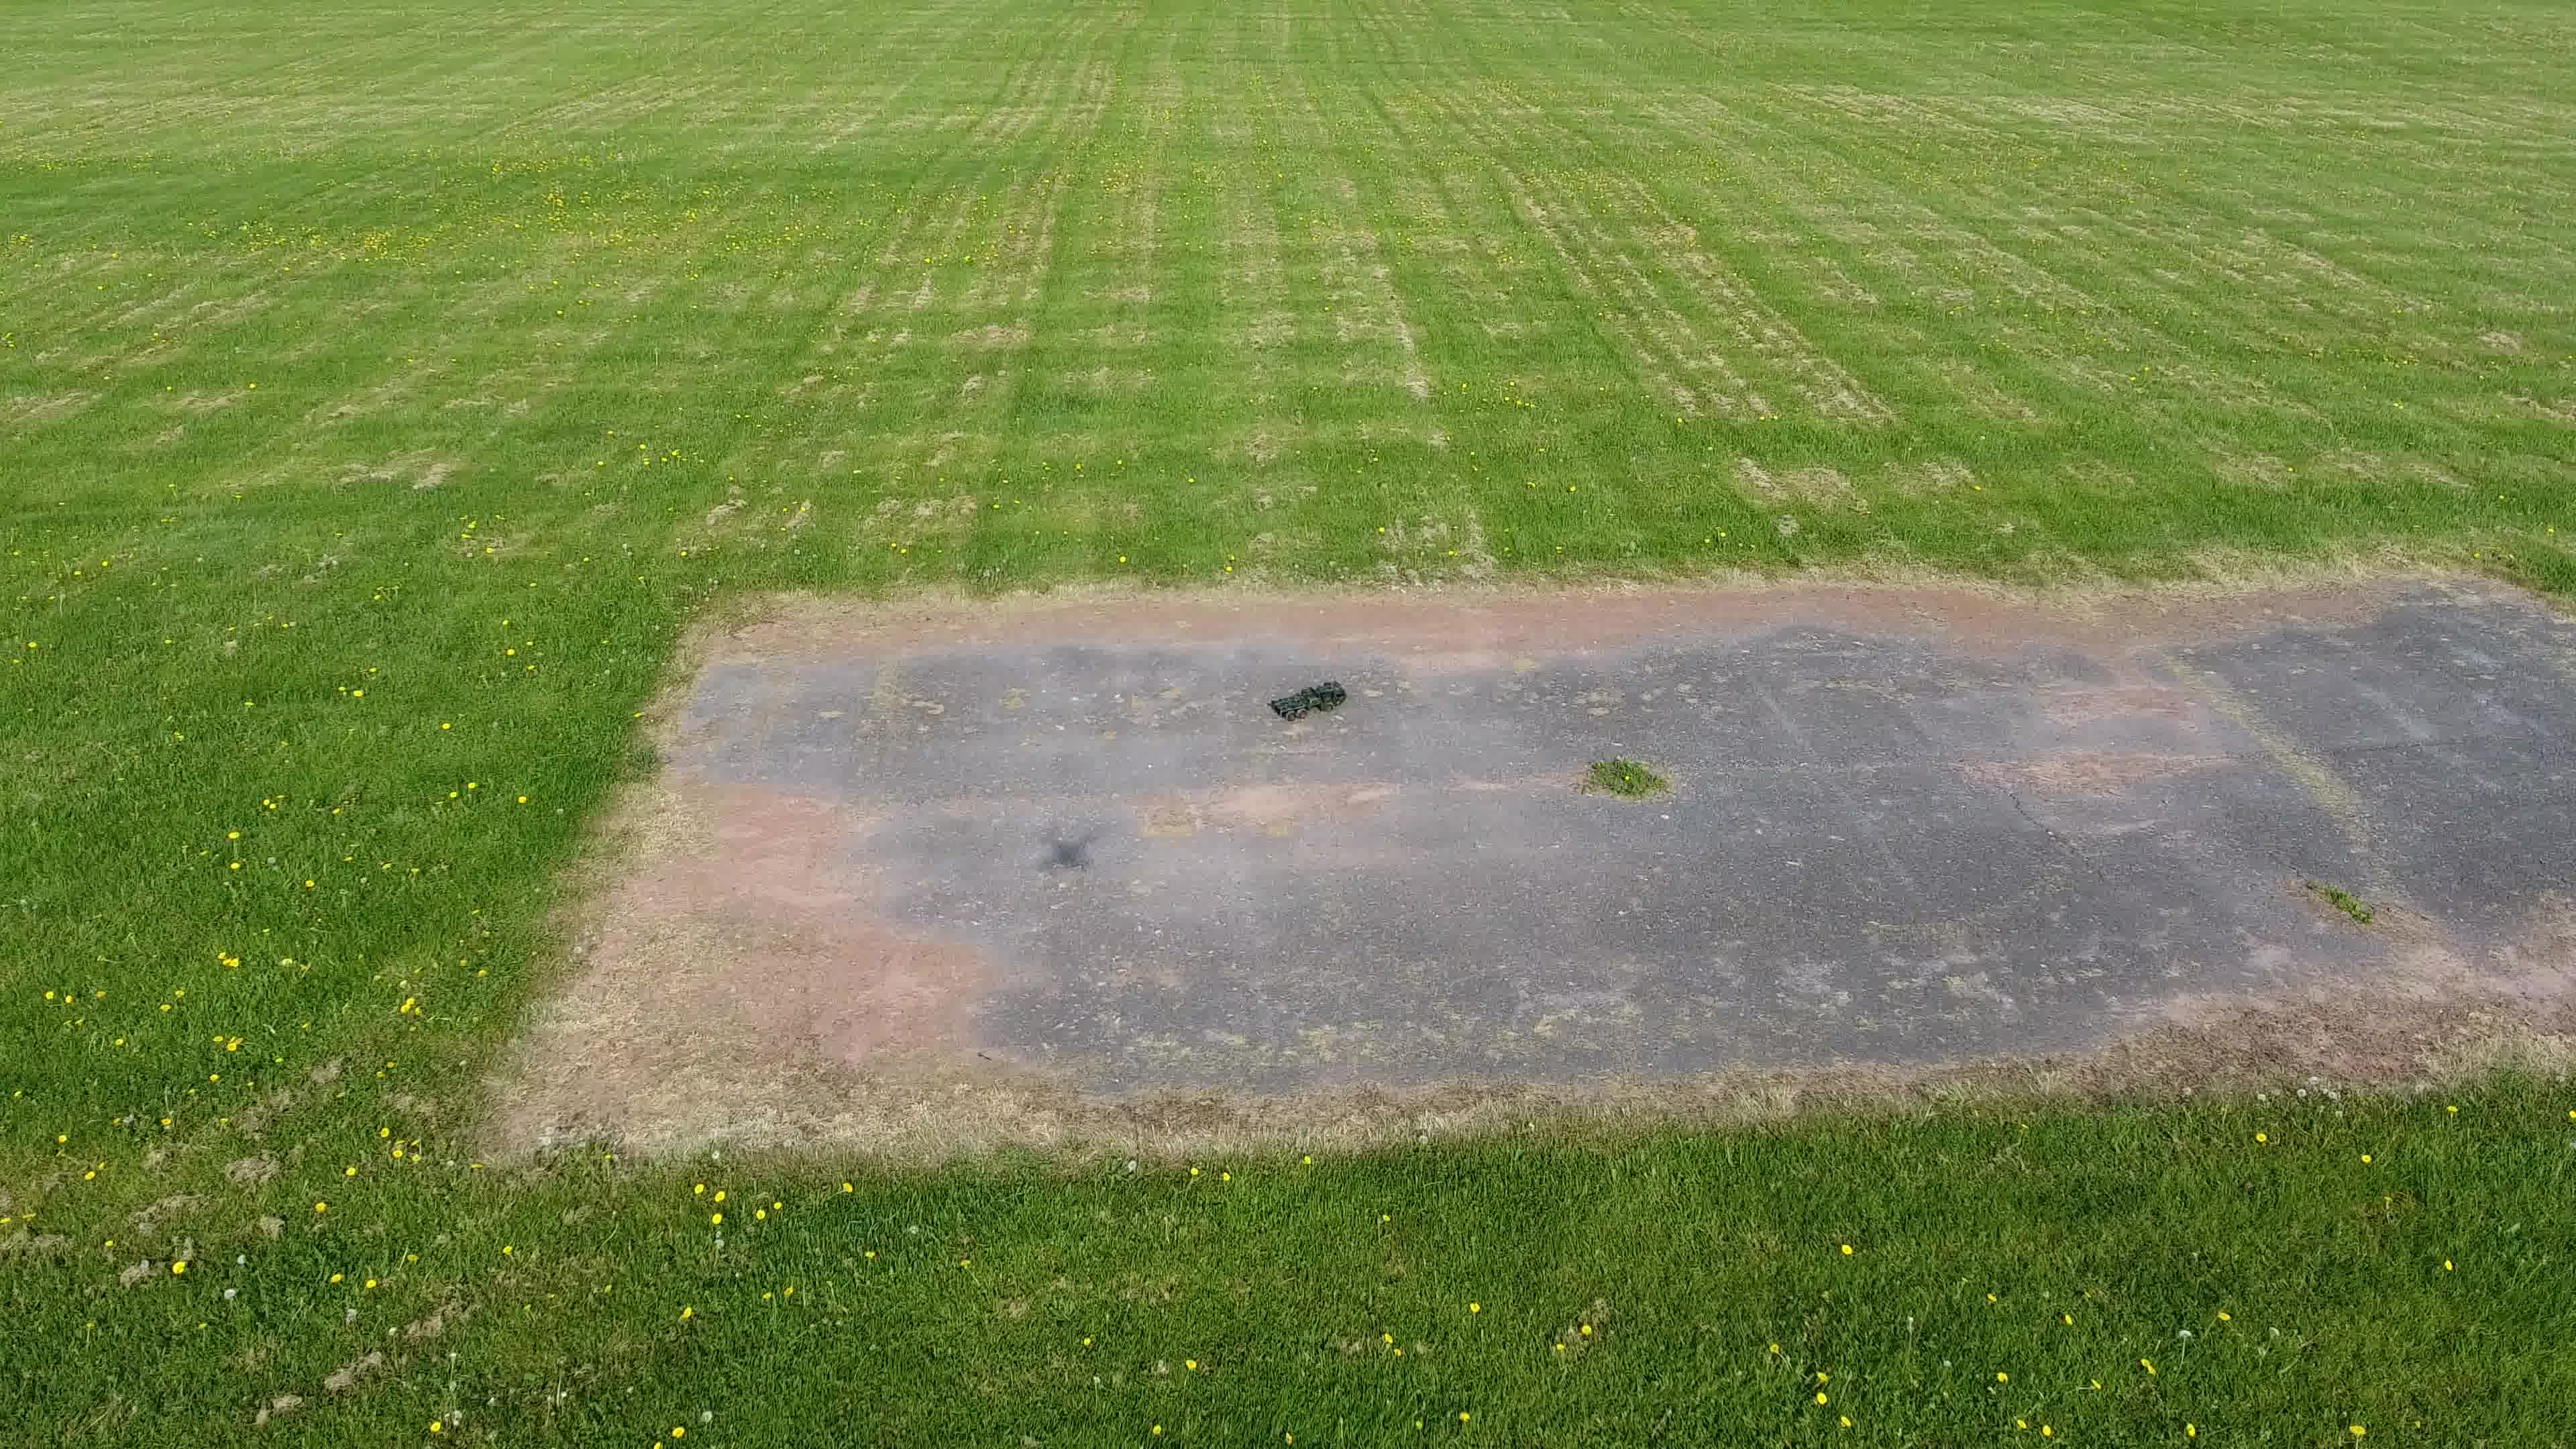transporter9: (1265, 678, 1350, 725)
